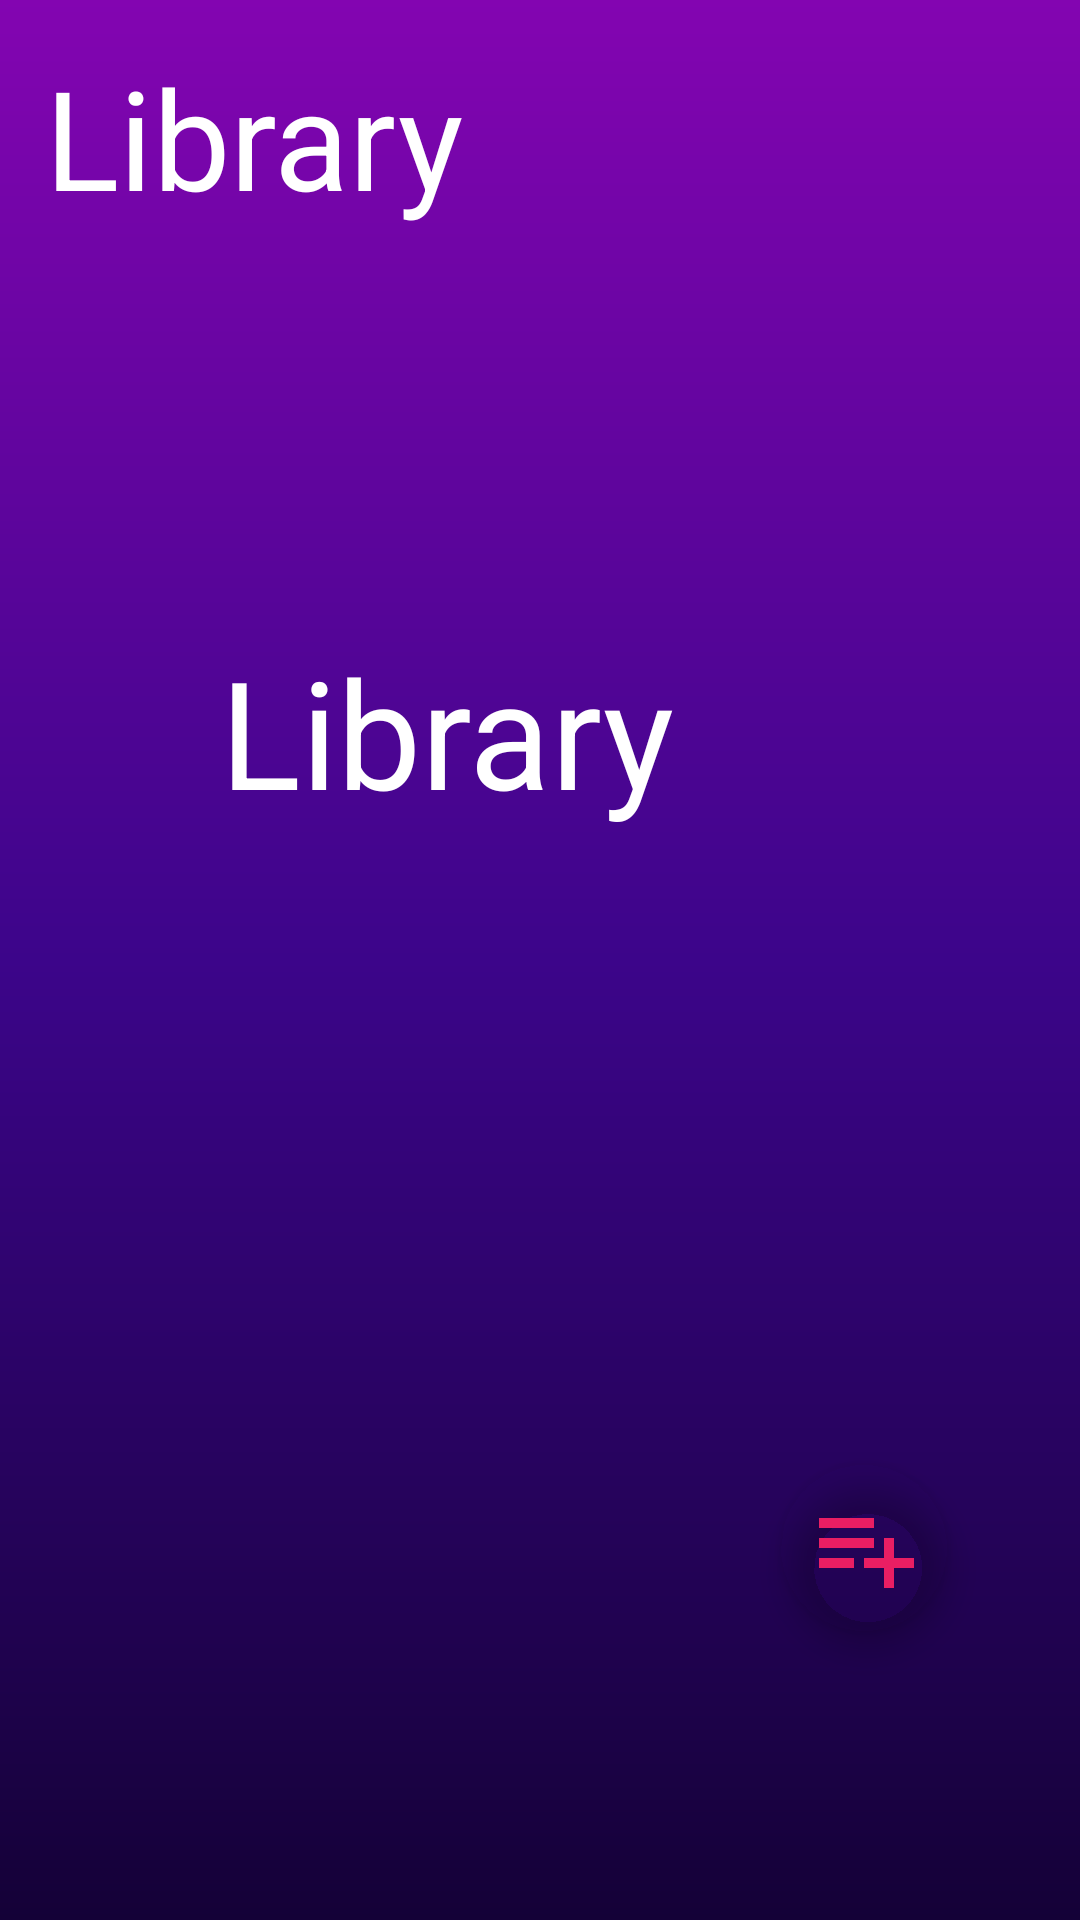

Icons on this 1080 × 1920 Android screen, each with its box as (left=x1, top=y1, right=x2, bottom=y2):
playlist add: (left=780, top=1487, right=948, bottom=1632)
